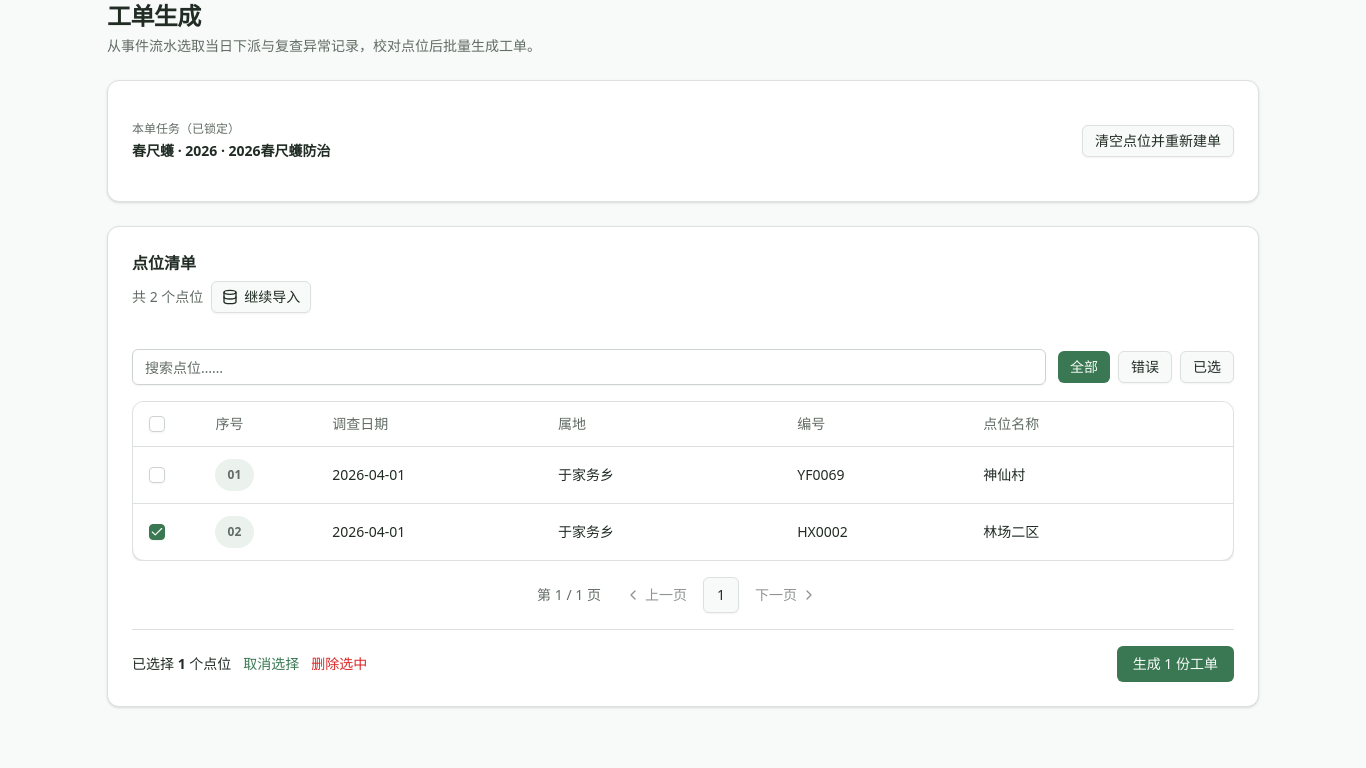
Test: WorkOrderView › 清单底部支持删除选中记录并清空选择
expect the footer with class "workorder-list-foot" is shown: met, box [132,629,1234,682]
Click the button "删除选中" at [339, 664], box [311,646,367,682]
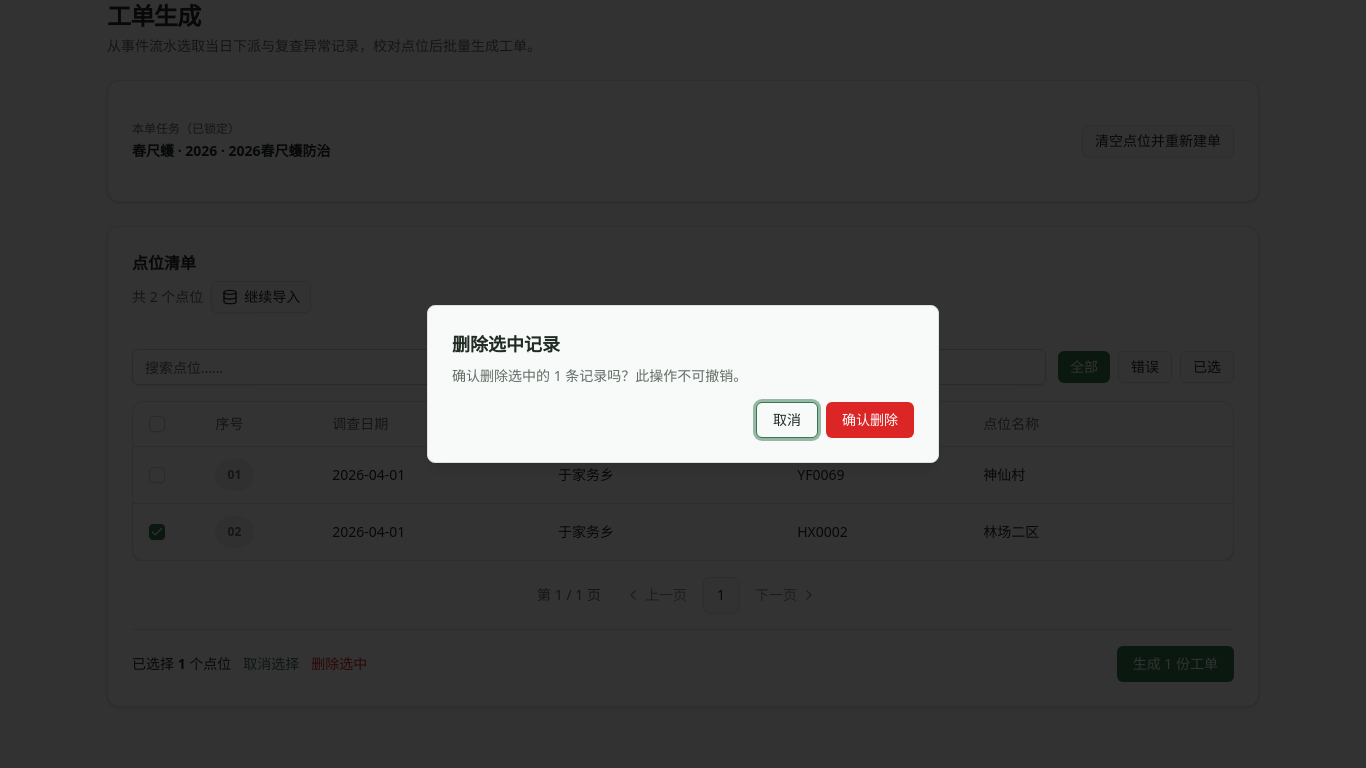
Click the button with test id "confirm-dialog-confirm" at [870, 420], box [826,402,914,438]
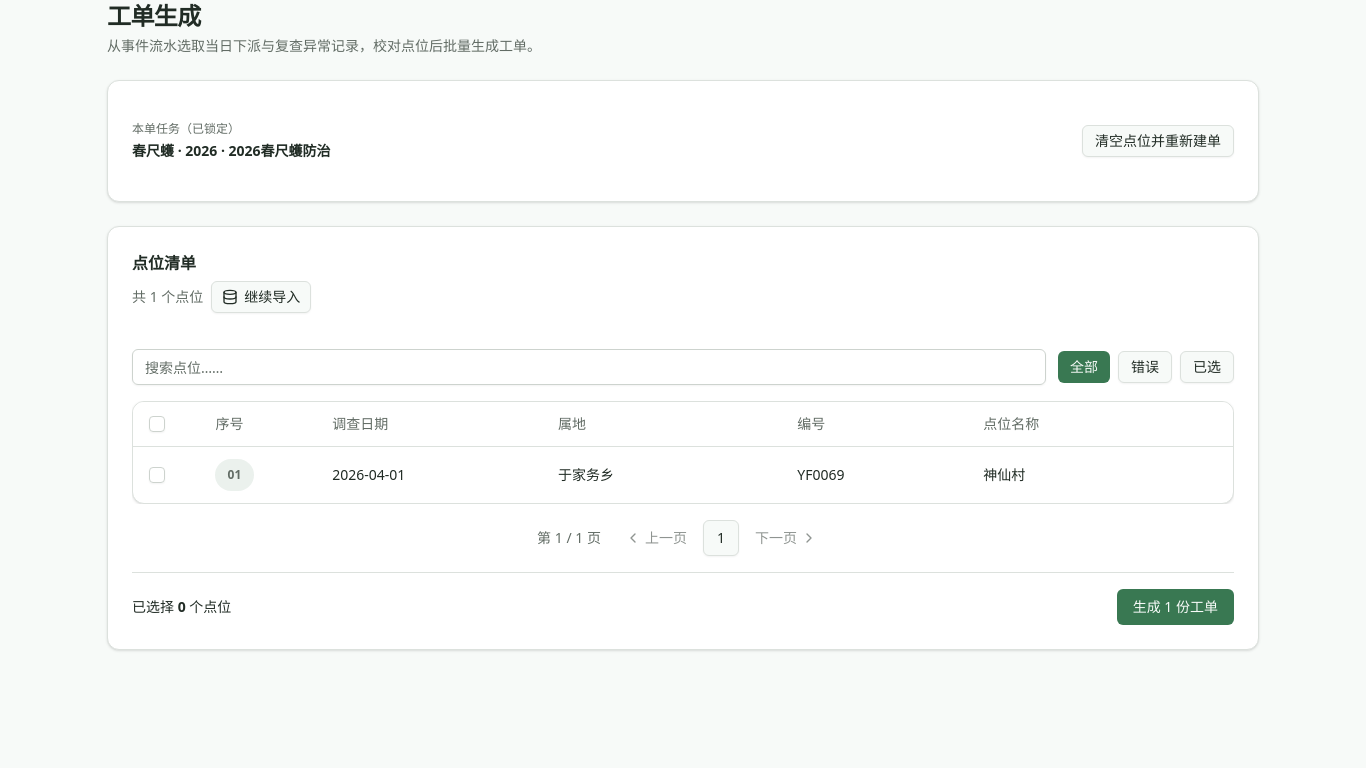
expect the text "YF0069" is shown: met, box [797,465,844,485]
expect the text "已选择 0 个点位" is shown: met, box [132,597,231,617]
